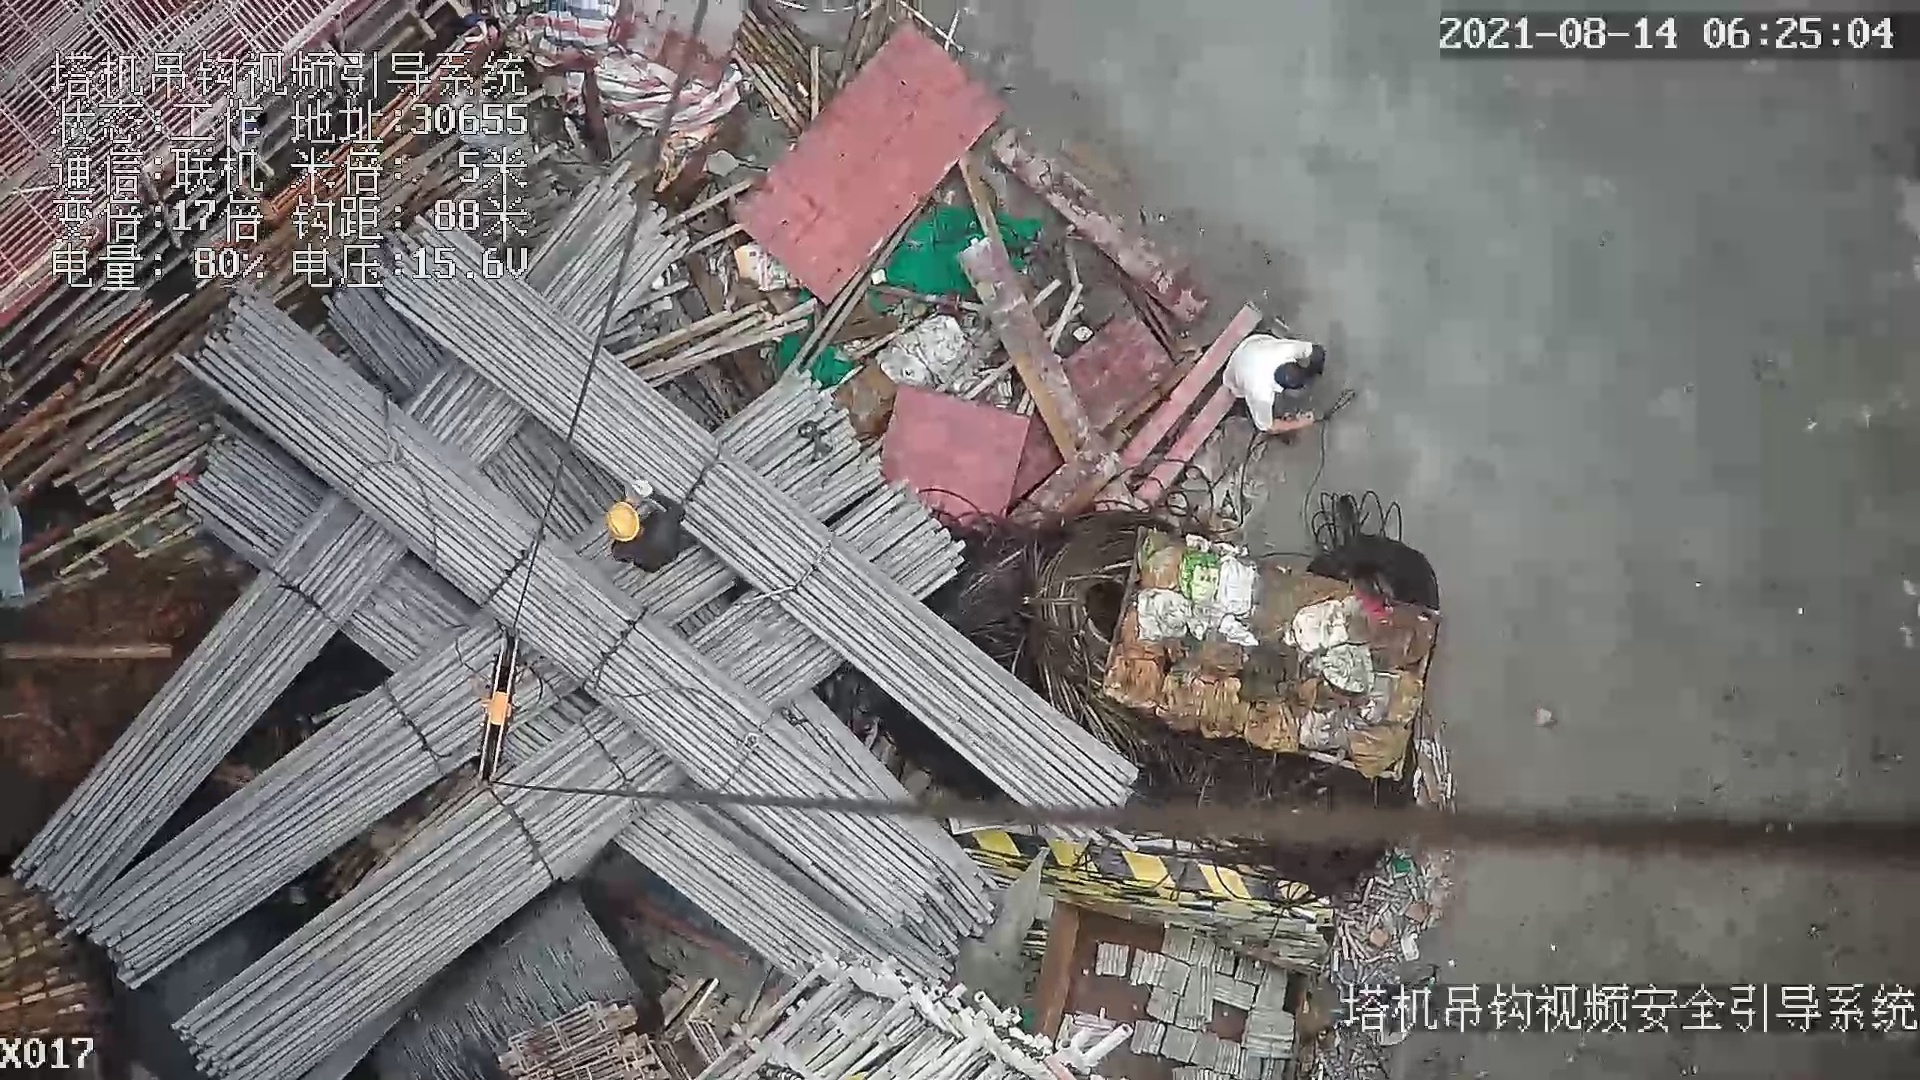helmet: (604, 501, 643, 543)
hook: (464, 623, 520, 787)
person: (1231, 328, 1323, 431), (612, 474, 694, 574)
